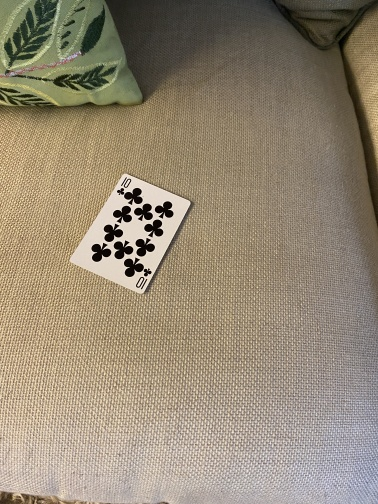ten: (69, 171, 193, 296)
